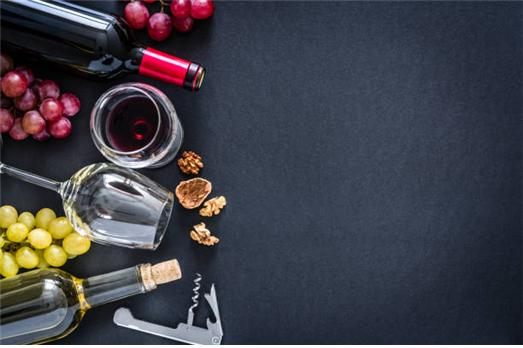alcohol: (0, 0, 209, 90), (0, 260, 182, 348), (0, 161, 176, 249), (91, 84, 183, 173)
